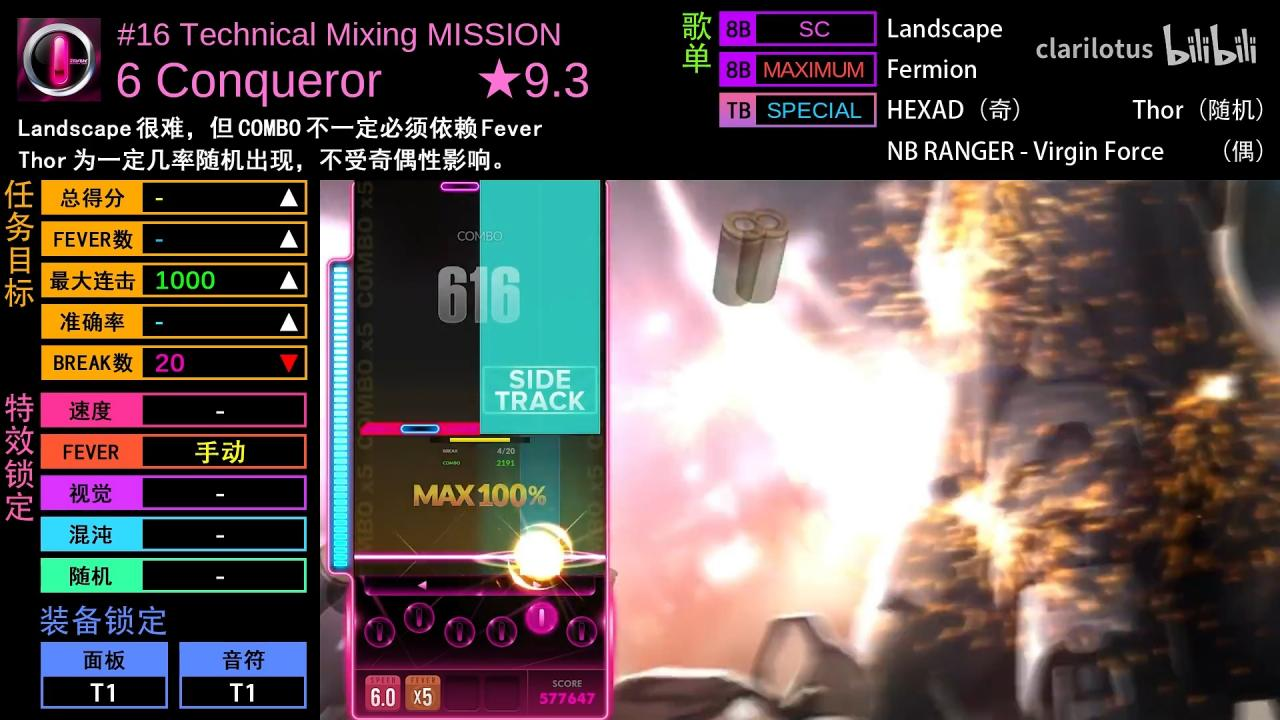note: (398, 423, 441, 435), (440, 181, 479, 192)
side-start: (480, 421, 601, 435)
xnote: (359, 422, 479, 434)
